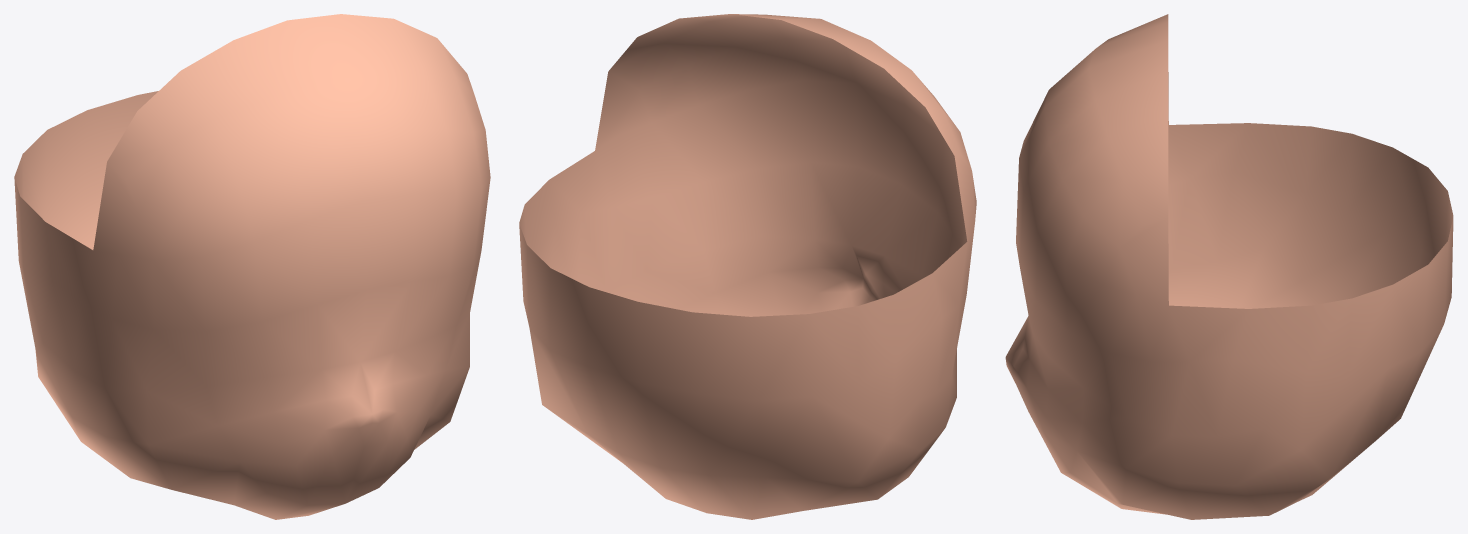
3 views of the same model, side by side, from view 1: azimuth 30°, elevation 25°; view 2: azimuth 150°, elevation 25°; view 3: azimuth 270°, elevation 25° (orthographic). The views are drawn at different scales.
Visible parts, largest first — view 1: AF_M_Face_19; view 2: AF_M_Face_19; view 3: AF_M_Face_19.
Part boxes in pixels (x1=…): AF_M_Face_19: x1=14, y1=14, x2=490, y2=519; AF_M_Face_19: x1=519, y1=14, x2=976, y2=519; AF_M_Face_19: x1=1005, y1=14, x2=1453, y2=519.
Bounding box in the file's own units: 655 × 747 × 661.
Materials: 1 (1 with a texture image).
